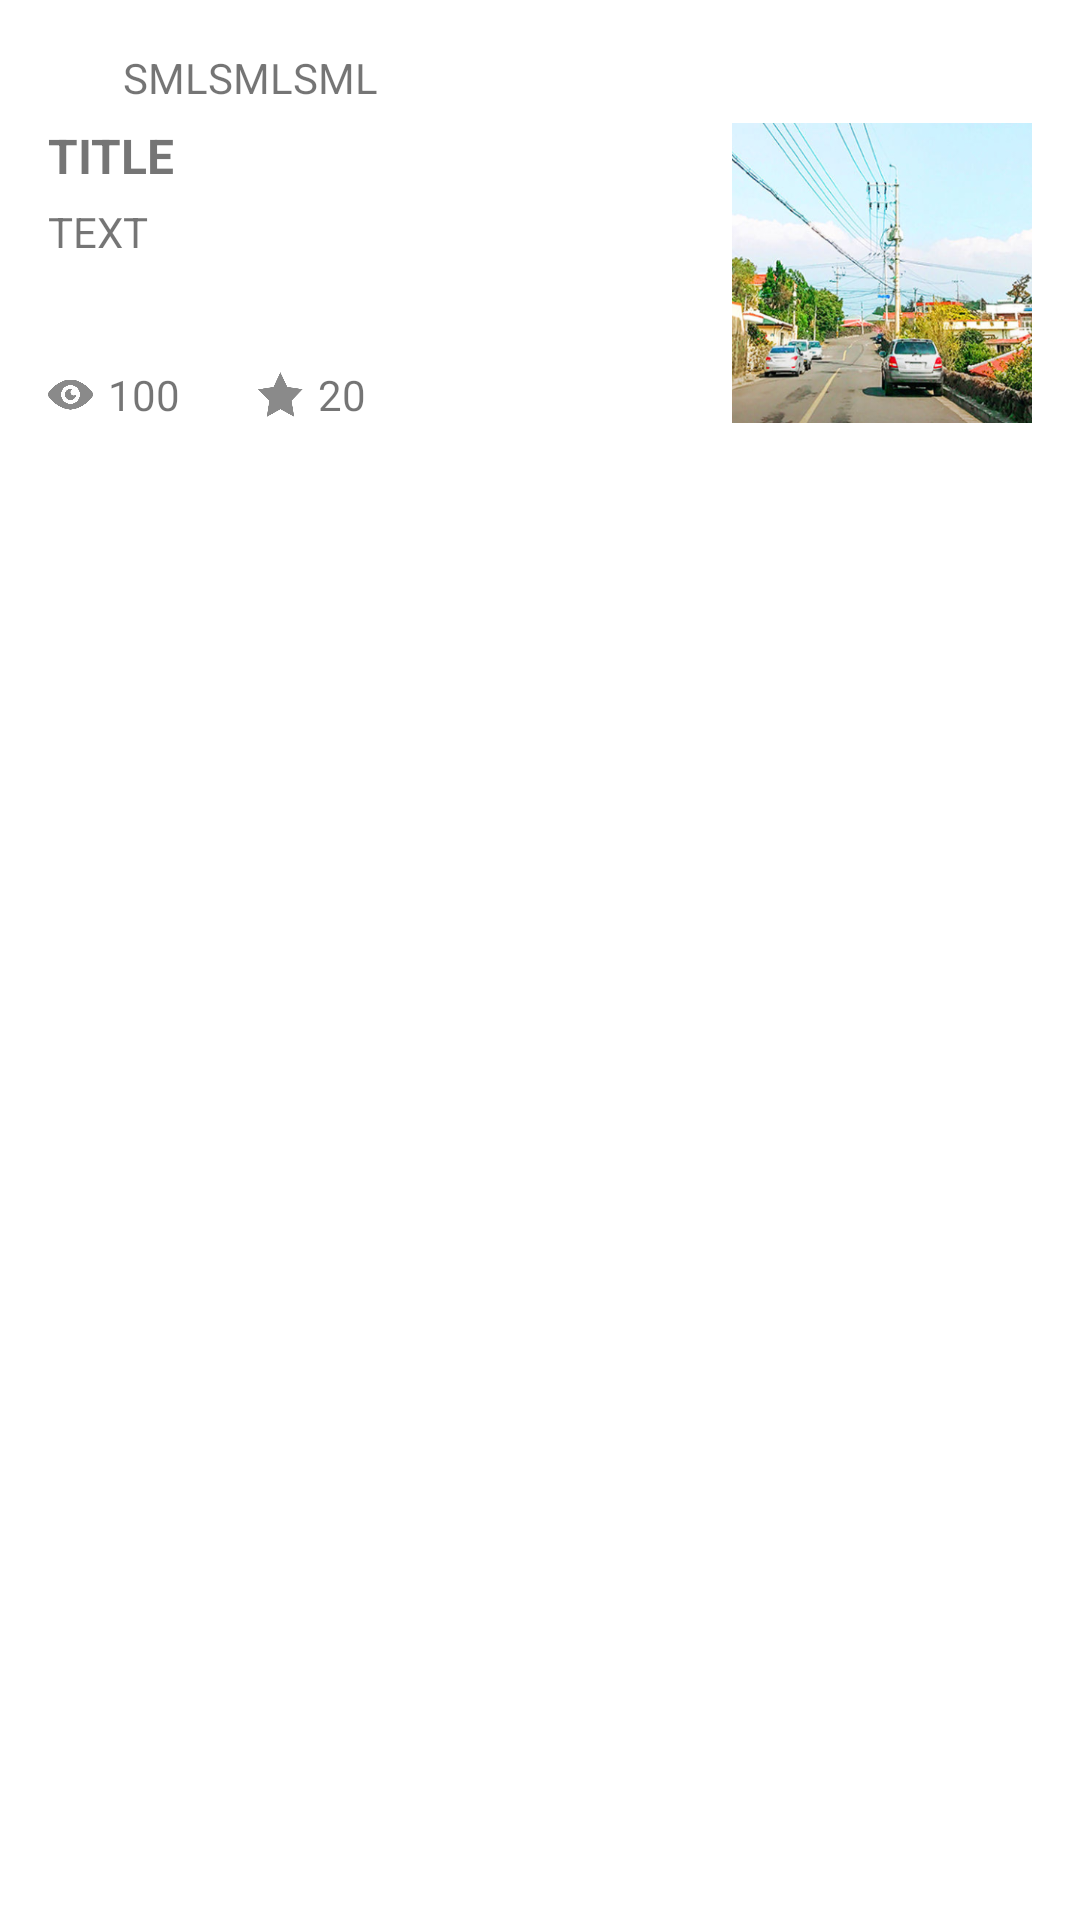

Icon bounding boxes for this 1080x1920 phone screenshot, format (x1, y1, x2, y2):
star: (258, 372, 303, 417)
